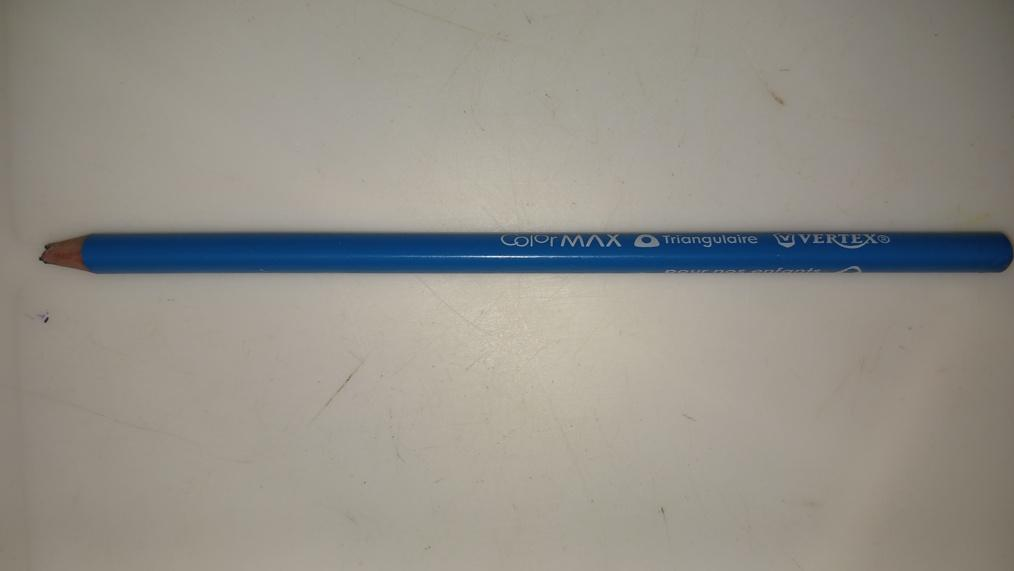Pencil: (38, 231, 1014, 272)
